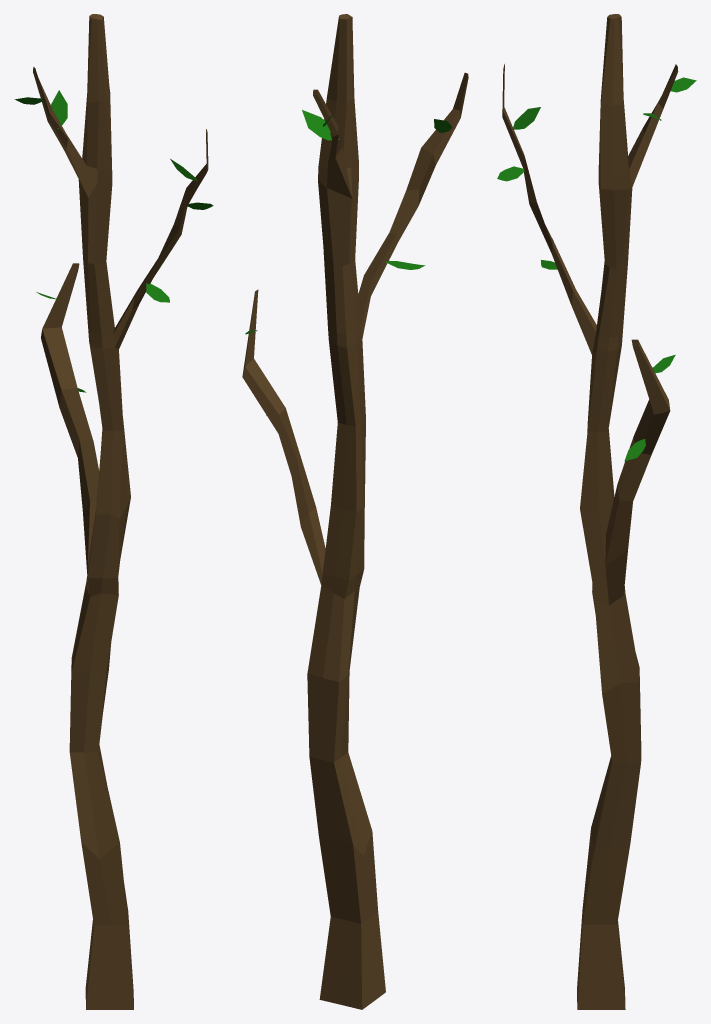
File: branch.fbx
3 views of the same model, side by side, from view 1: azimuth 90°, elevation 25°; view 2: azimuth 150°, elevation 25°; view 3: azimuth 270°, elevation 25° (orthographic).
Visible parts, largest first — view 1: branch; view 2: branch; view 3: branch.
Boxes of the visible parts, left/top/right/bottom form: branch: left=14, top=14, right=213, bottom=1009; branch: left=242, top=14, right=468, bottom=1009; branch: left=497, top=14, right=696, bottom=1009.
Size of the model in its own units: 18.73 by 120 by 22.06.
